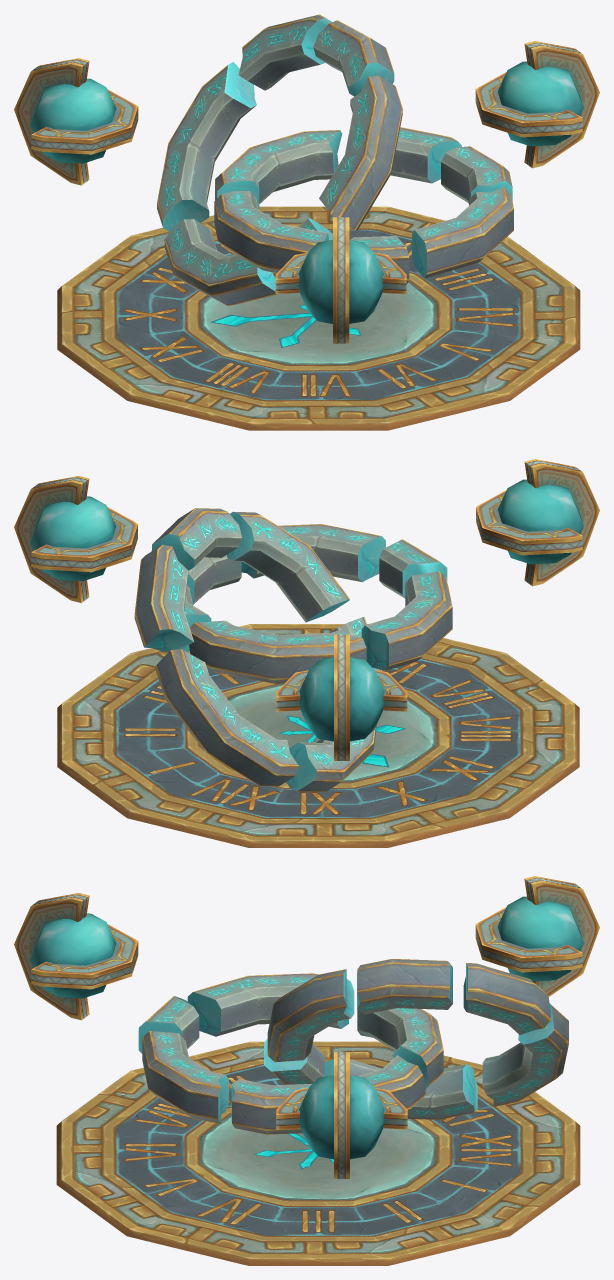
File: JTZD_HHZ_01.FBX
3 renders of one model, top to bottom at view 1: azimuth 30°, elevation 25°; view 2: azimuth 150°, elevation 25°; view 3: azimuth 270°, elevation 25°, orthographic.
Visible parts, largest first — view 1: Object03, Object02, Object07, Object06; view 2: Object03, Object02, Object07, Object06; view 3: Object03, Object02, Object07, Object06.
Boxes of the visible parts, box(x1,y1,x2,y2) form: Object03: box(57, 206, 580, 430); Object02: box(14, 41, 599, 343); Object07: box(157, 14, 402, 306); Object06: box(214, 127, 513, 284); Object03: box(57, 624, 579, 847); Object02: box(14, 459, 599, 760); Object07: box(134, 508, 382, 791); Object06: box(181, 524, 452, 683); Object03: box(56, 1041, 580, 1265); Object02: box(14, 876, 599, 1178); Object07: box(264, 959, 568, 1119); Object06: box(138, 973, 443, 1134).
Size of the model in its own units: 353 by 154 by 348.
